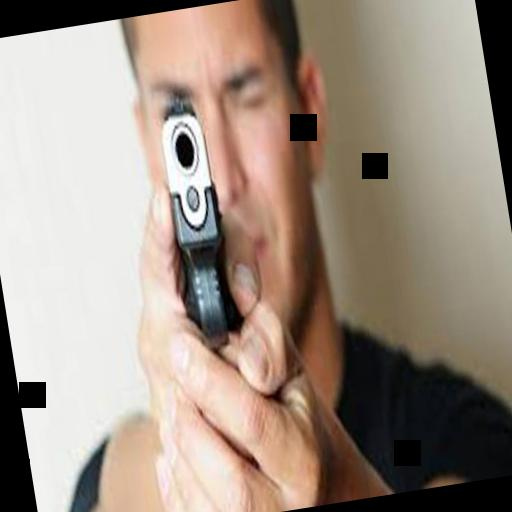Handgun: (152, 86, 250, 381)
